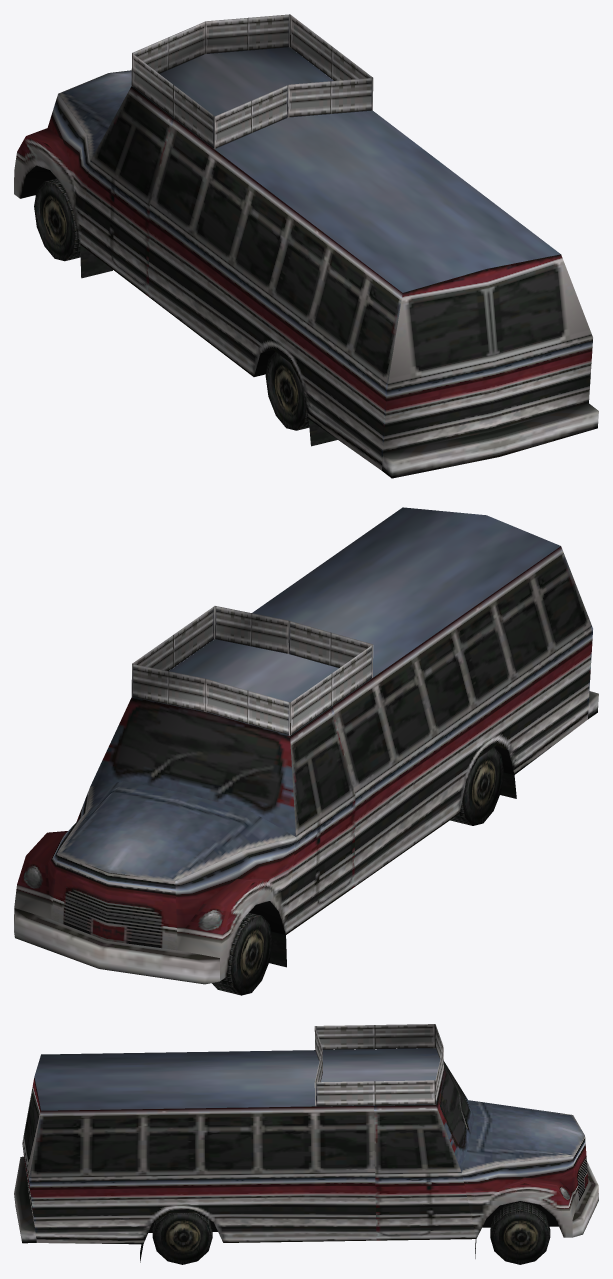
Rendered from CIVBUS.glb.
The picture shows the model from 3 angles, top to bottom: view 1: azimuth 30°, elevation 25°; view 2: azimuth 150°, elevation 25°; view 3: azimuth 270°, elevation 25°; orthographic projection. The views are drawn at different scales.
Parts seen in each view (by area): view 1: CIVBUS; view 2: CIVBUS; view 3: CIVBUS.
Boxes of the visible parts, box(x1,y1,x2,y2) form: CIVBUS: box(14, 14, 598, 478); CIVBUS: box(14, 507, 598, 995); CIVBUS: box(14, 1024, 598, 1264).
Size of the model in its own units: 2.6 by 3.04 by 8.78.
1 material, 1 textured.
